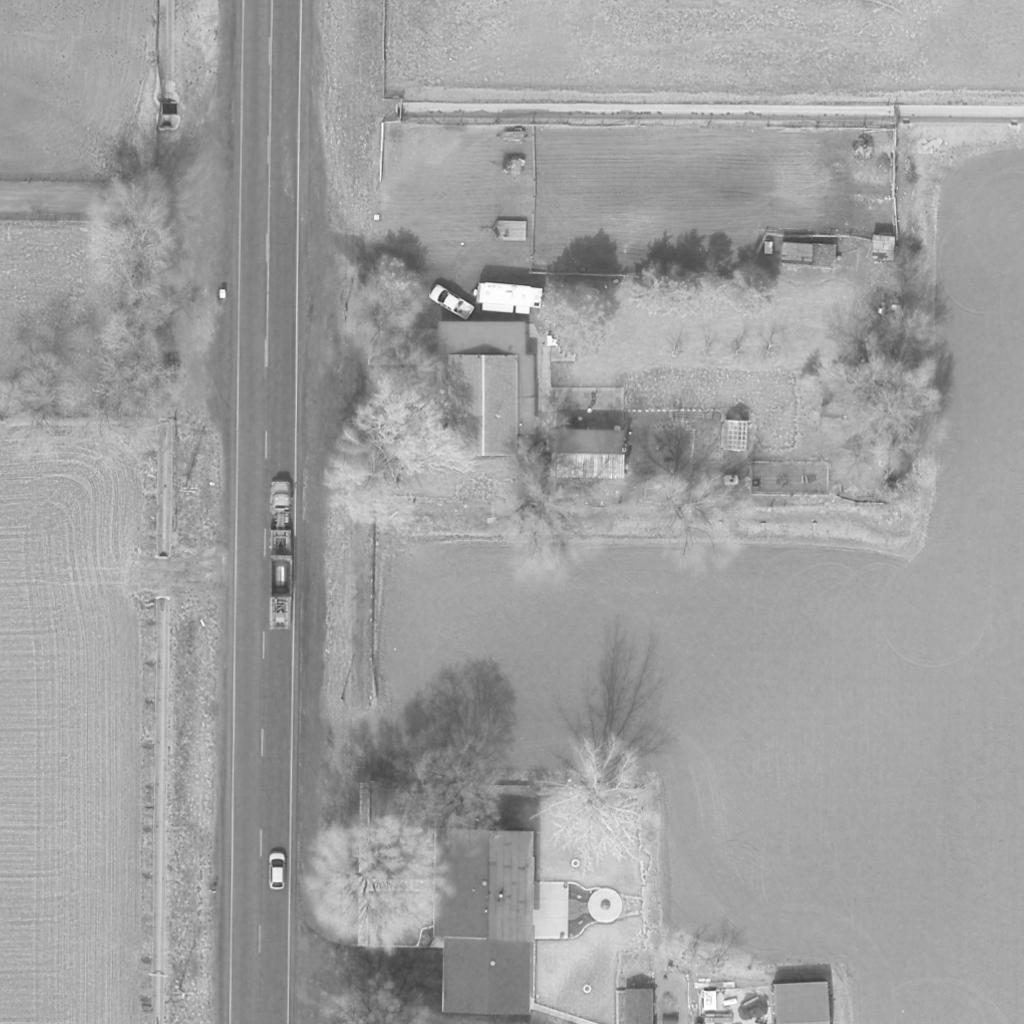vehicle: (265, 479, 295, 633), (470, 281, 544, 315), (428, 283, 476, 321), (268, 852, 288, 890)
